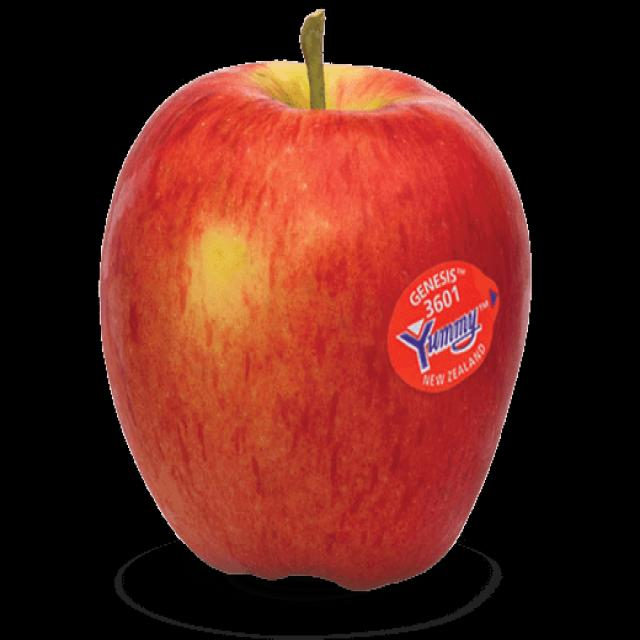apple: (87, 42, 537, 603)
